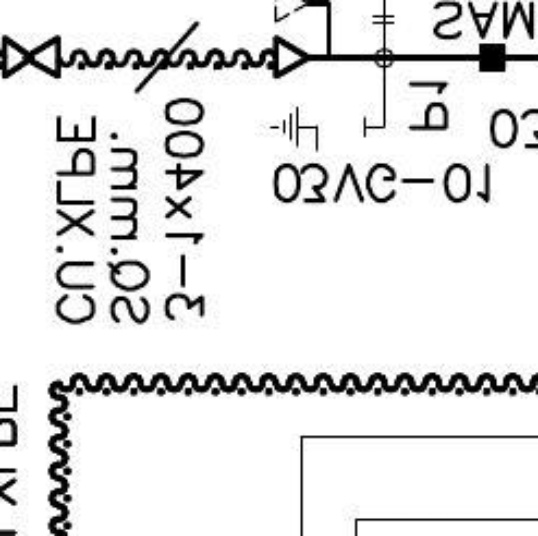22_gs: (270, 104, 369, 155)
terminator_splicing_kits: (1, 35, 62, 80)
